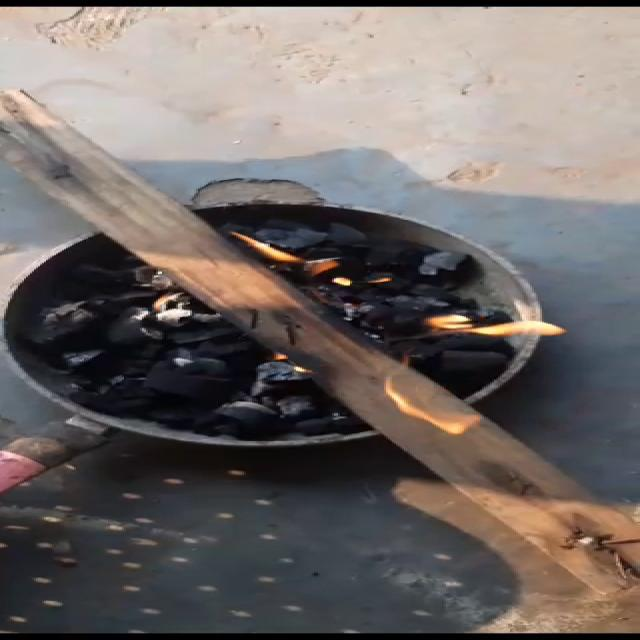Fire: (361, 297, 572, 443), (217, 220, 370, 298)
